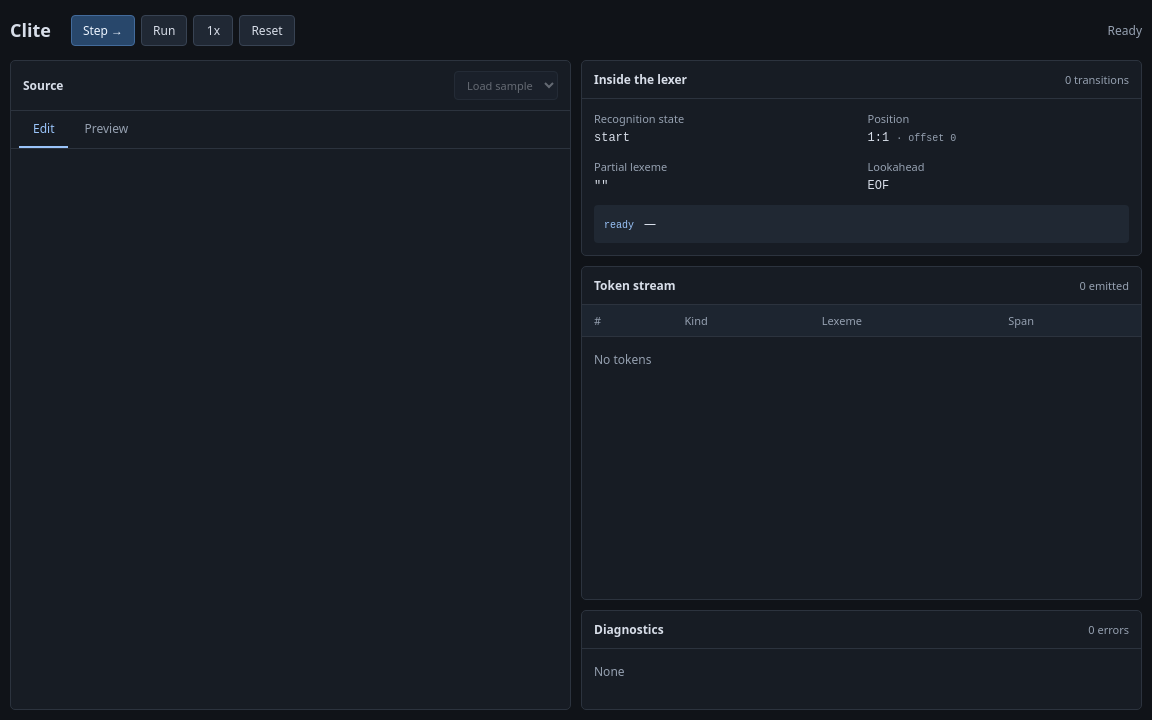
Test: lexer interface › highlights a selected token in the source trace
Type "int a;" into the text box named "Source code".
click(290, 429); type("int a;")  # box [11,149,570,709]
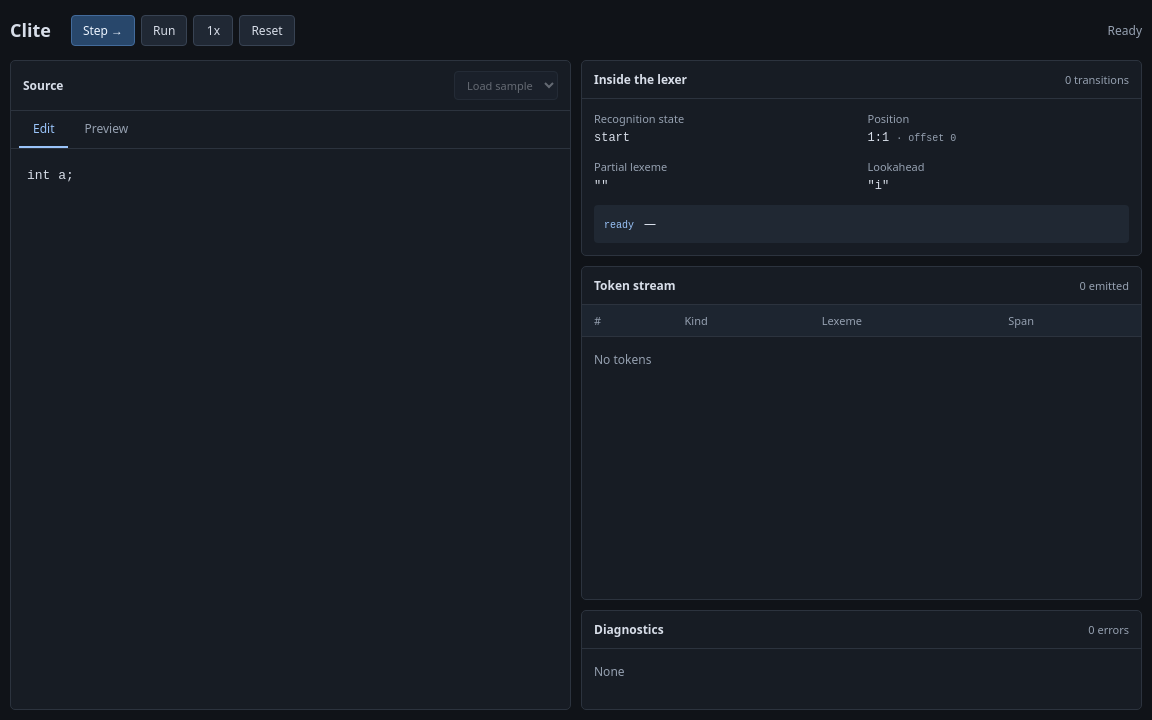
Click the button "Run".
click(164, 30)  # box [141,14,187,46]
Wait 4000 ms
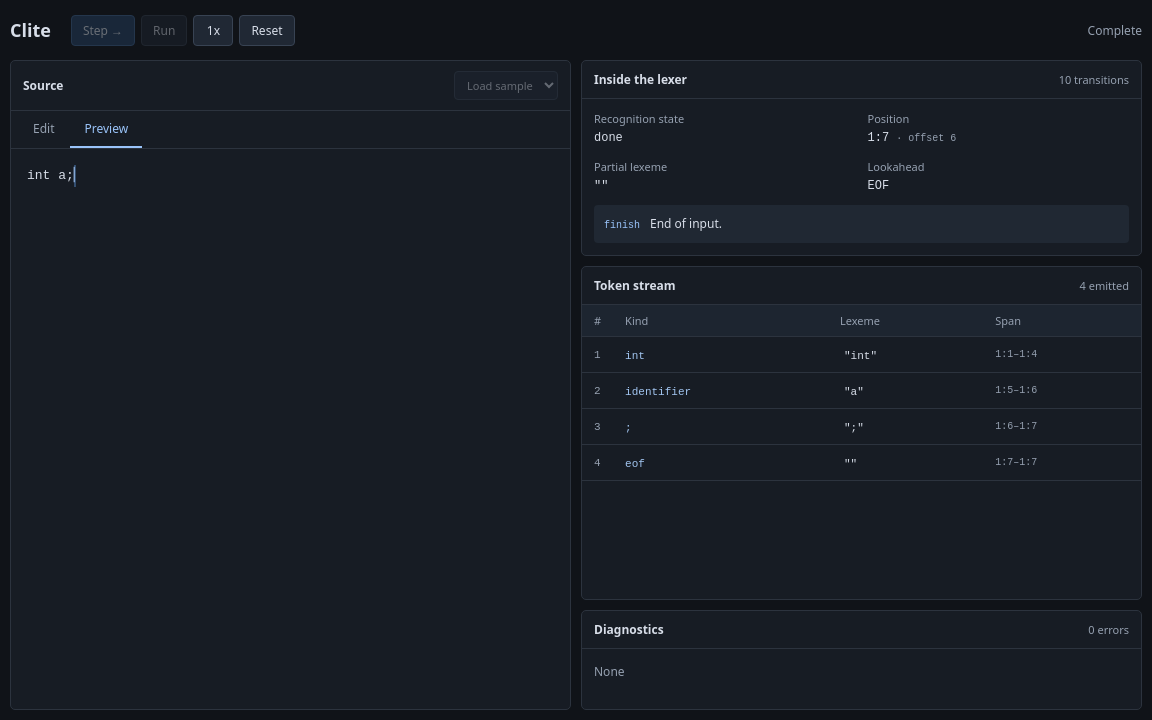
Click the tab "Edit".
click(44, 130)  # box [19,111,68,148]
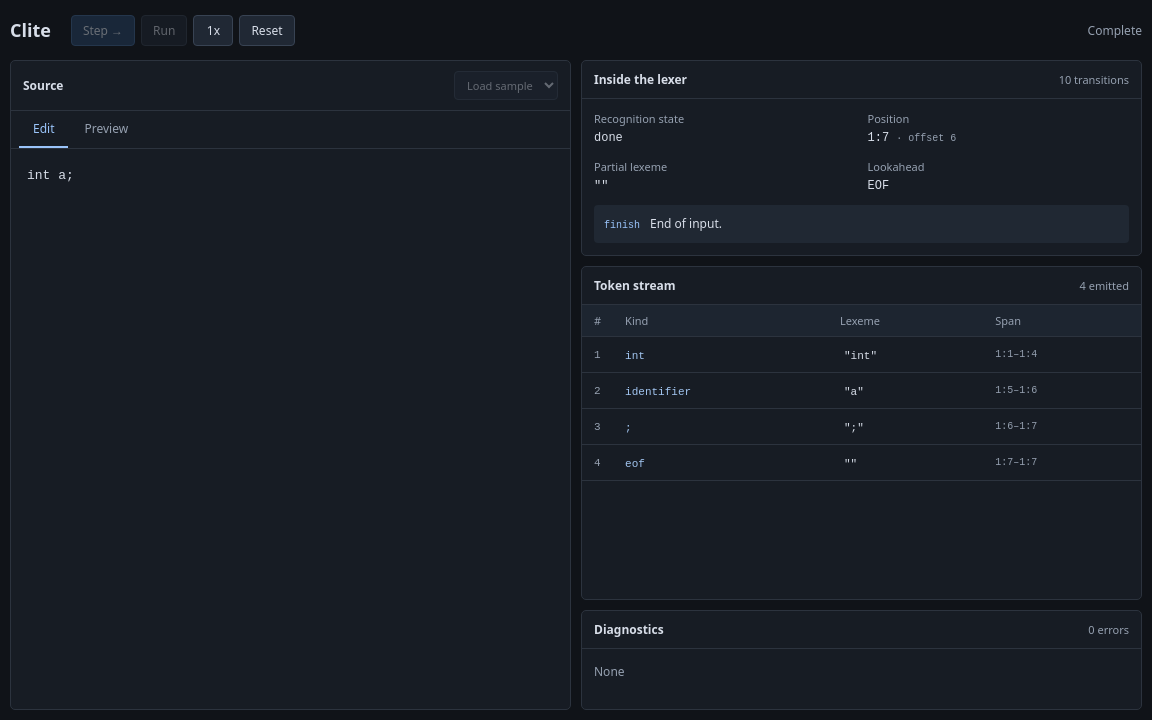
Click the button named "Inspect token 1: int".
click(860, 354)  # box [840,345,881,364]
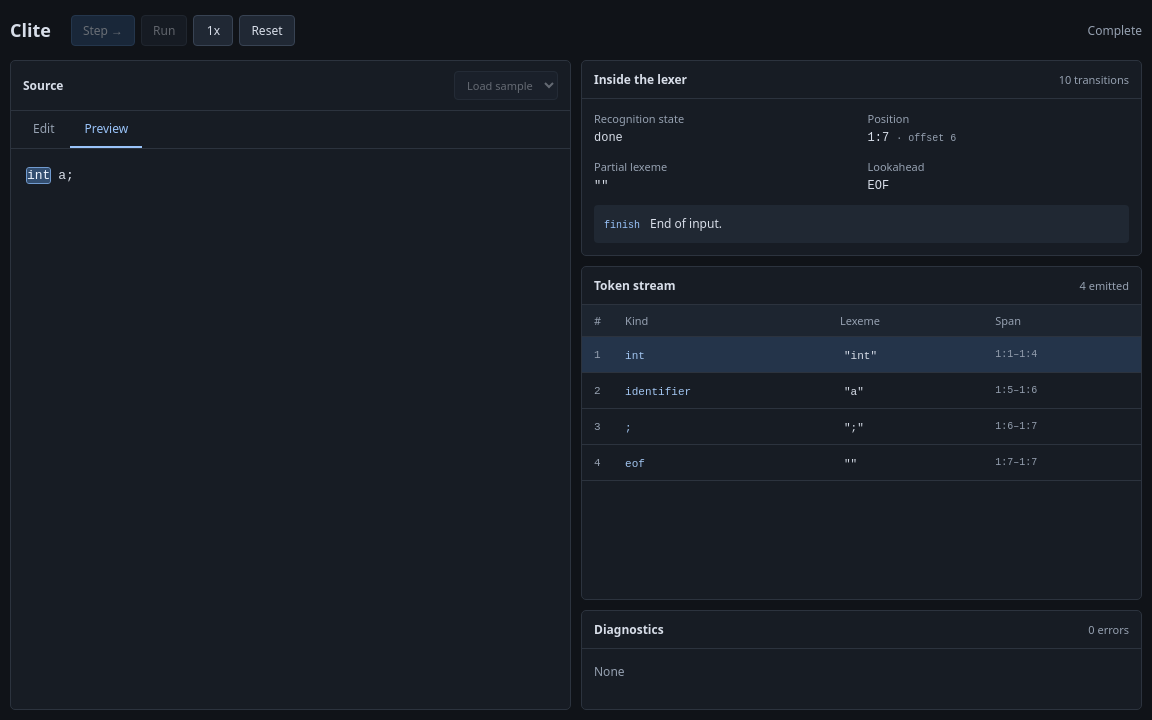
Now the element named "Source trace" is shown, box [27,168,74,183]
Now the text "int" next to "a;" is shown, box [27,168,50,183]
